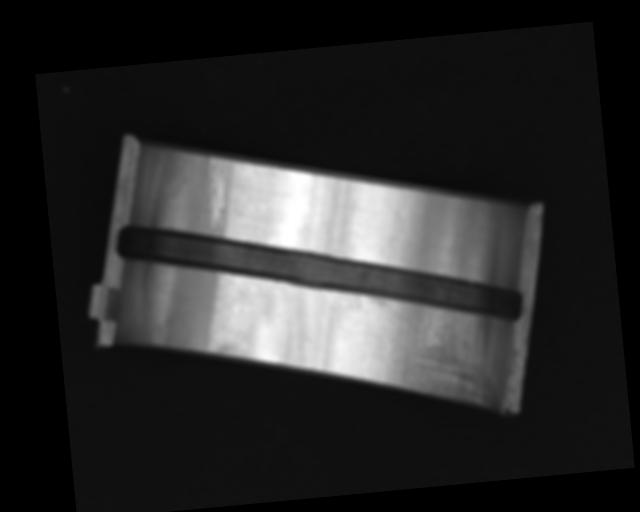gap: (114, 189, 523, 357)
nick: (202, 152, 229, 229)
scratch: (369, 285, 498, 416)
